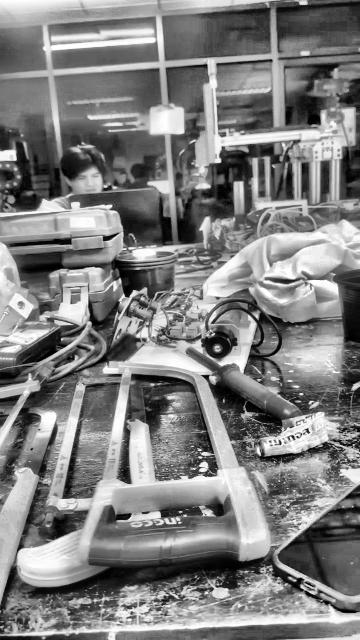pot: (333, 269, 359, 347)
